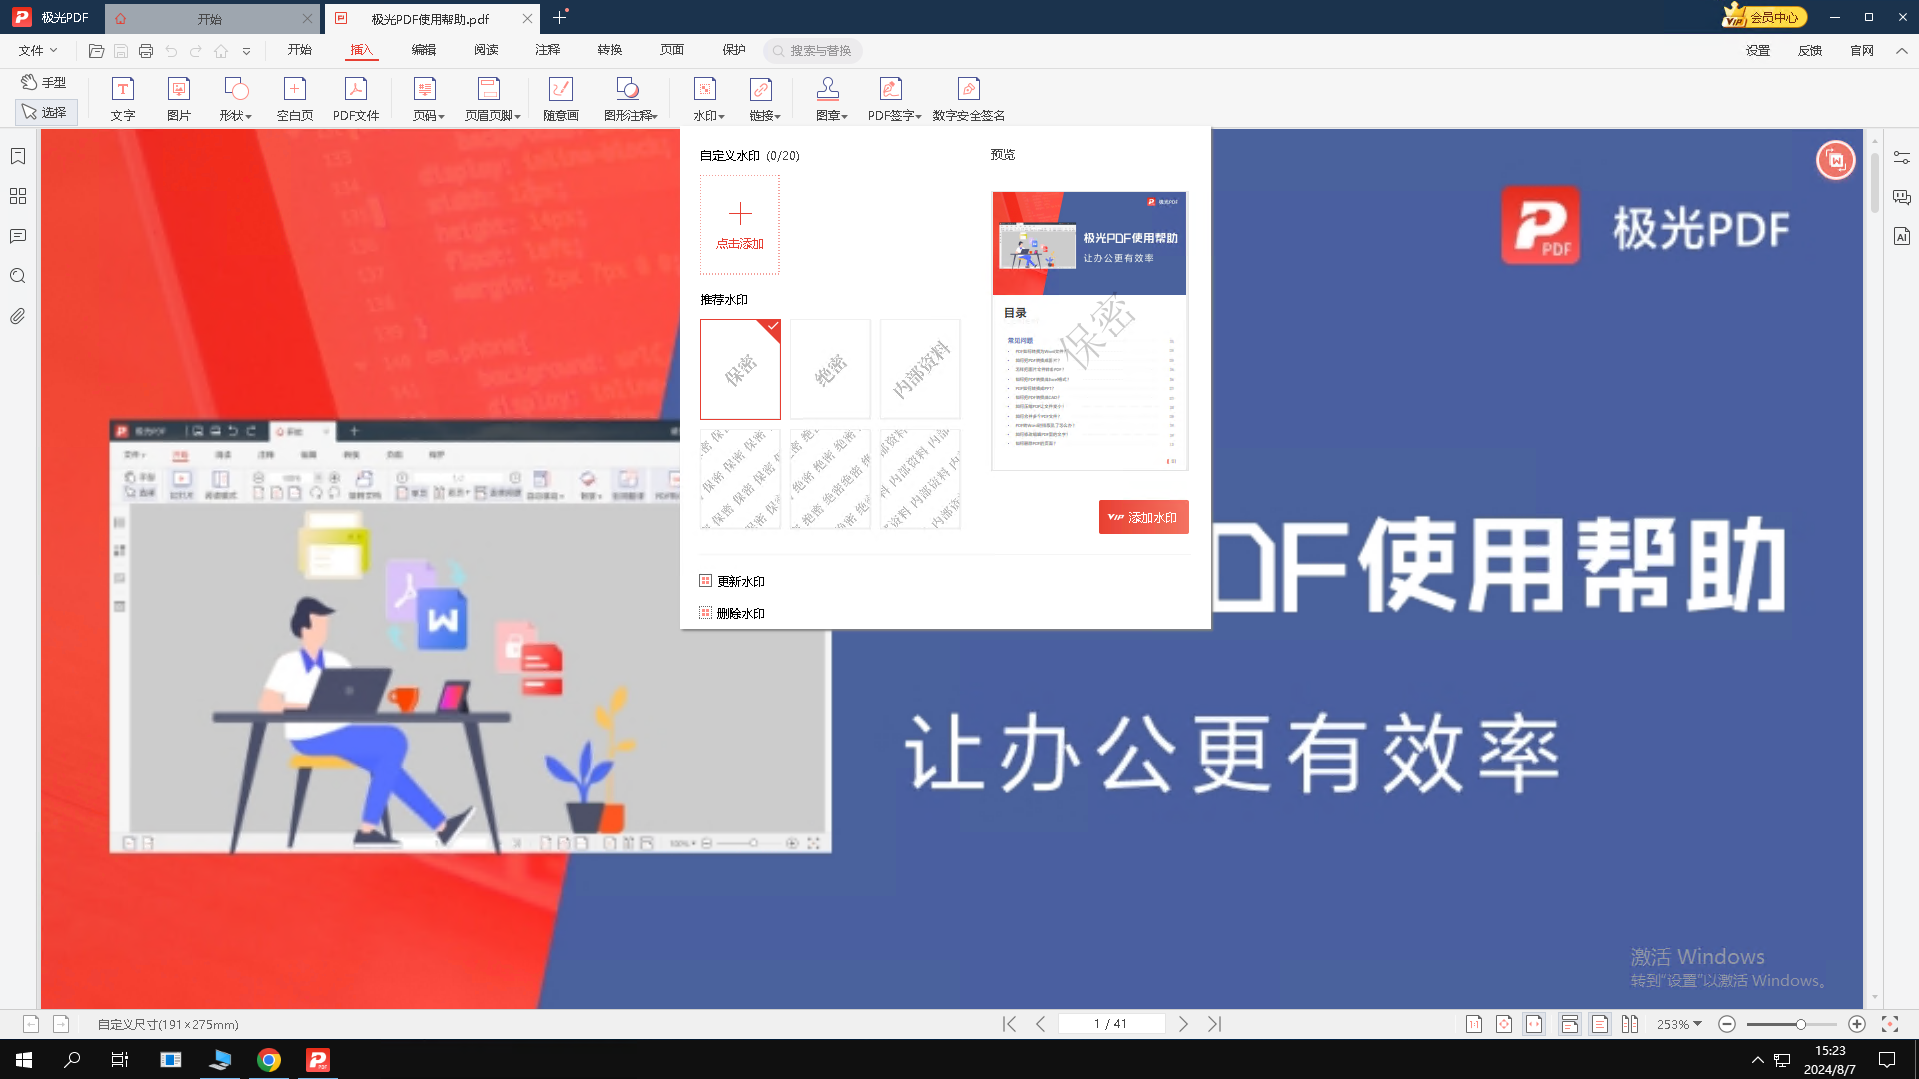Clickable: (782, 419, 876, 538), (691, 308, 786, 422), (693, 418, 783, 538), (783, 310, 875, 422), (871, 315, 965, 424), (692, 169, 783, 275), (878, 423, 965, 534), (1097, 498, 1190, 535), (691, 564, 776, 599), (691, 598, 778, 626)
Root: (679, 126, 1211, 627)
